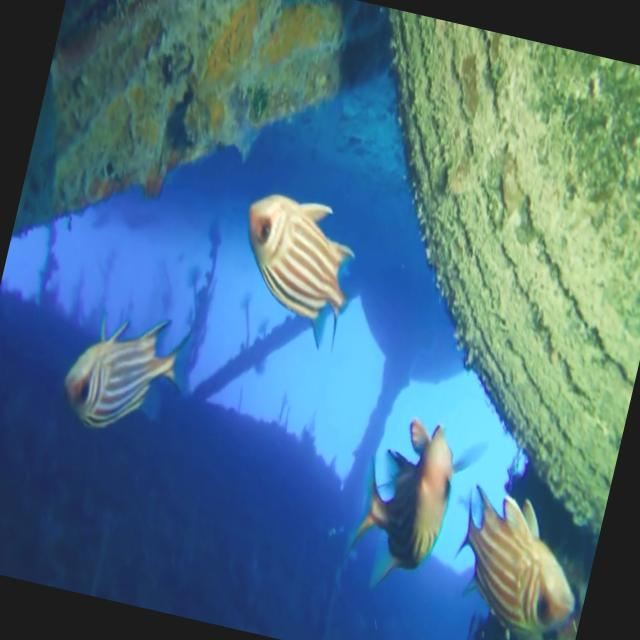Asker Baligi: (337, 407, 490, 608), (220, 185, 370, 358), (439, 480, 598, 640), (53, 297, 197, 449)
